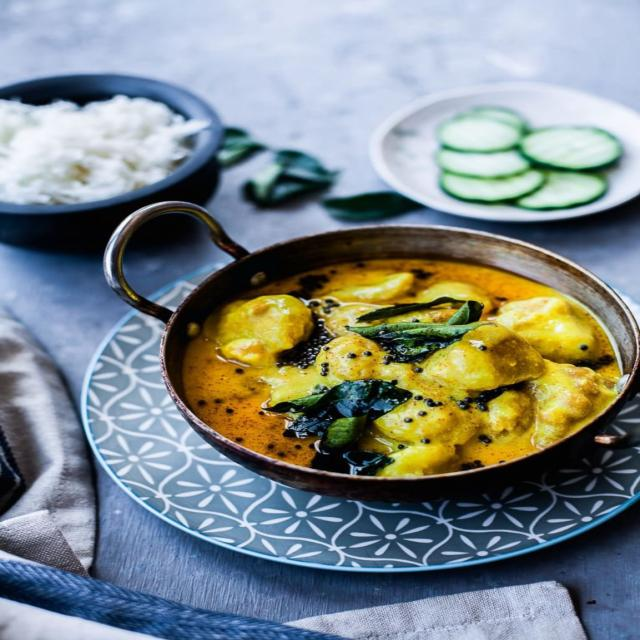Kadhi Pakora: (182, 255, 628, 483)
